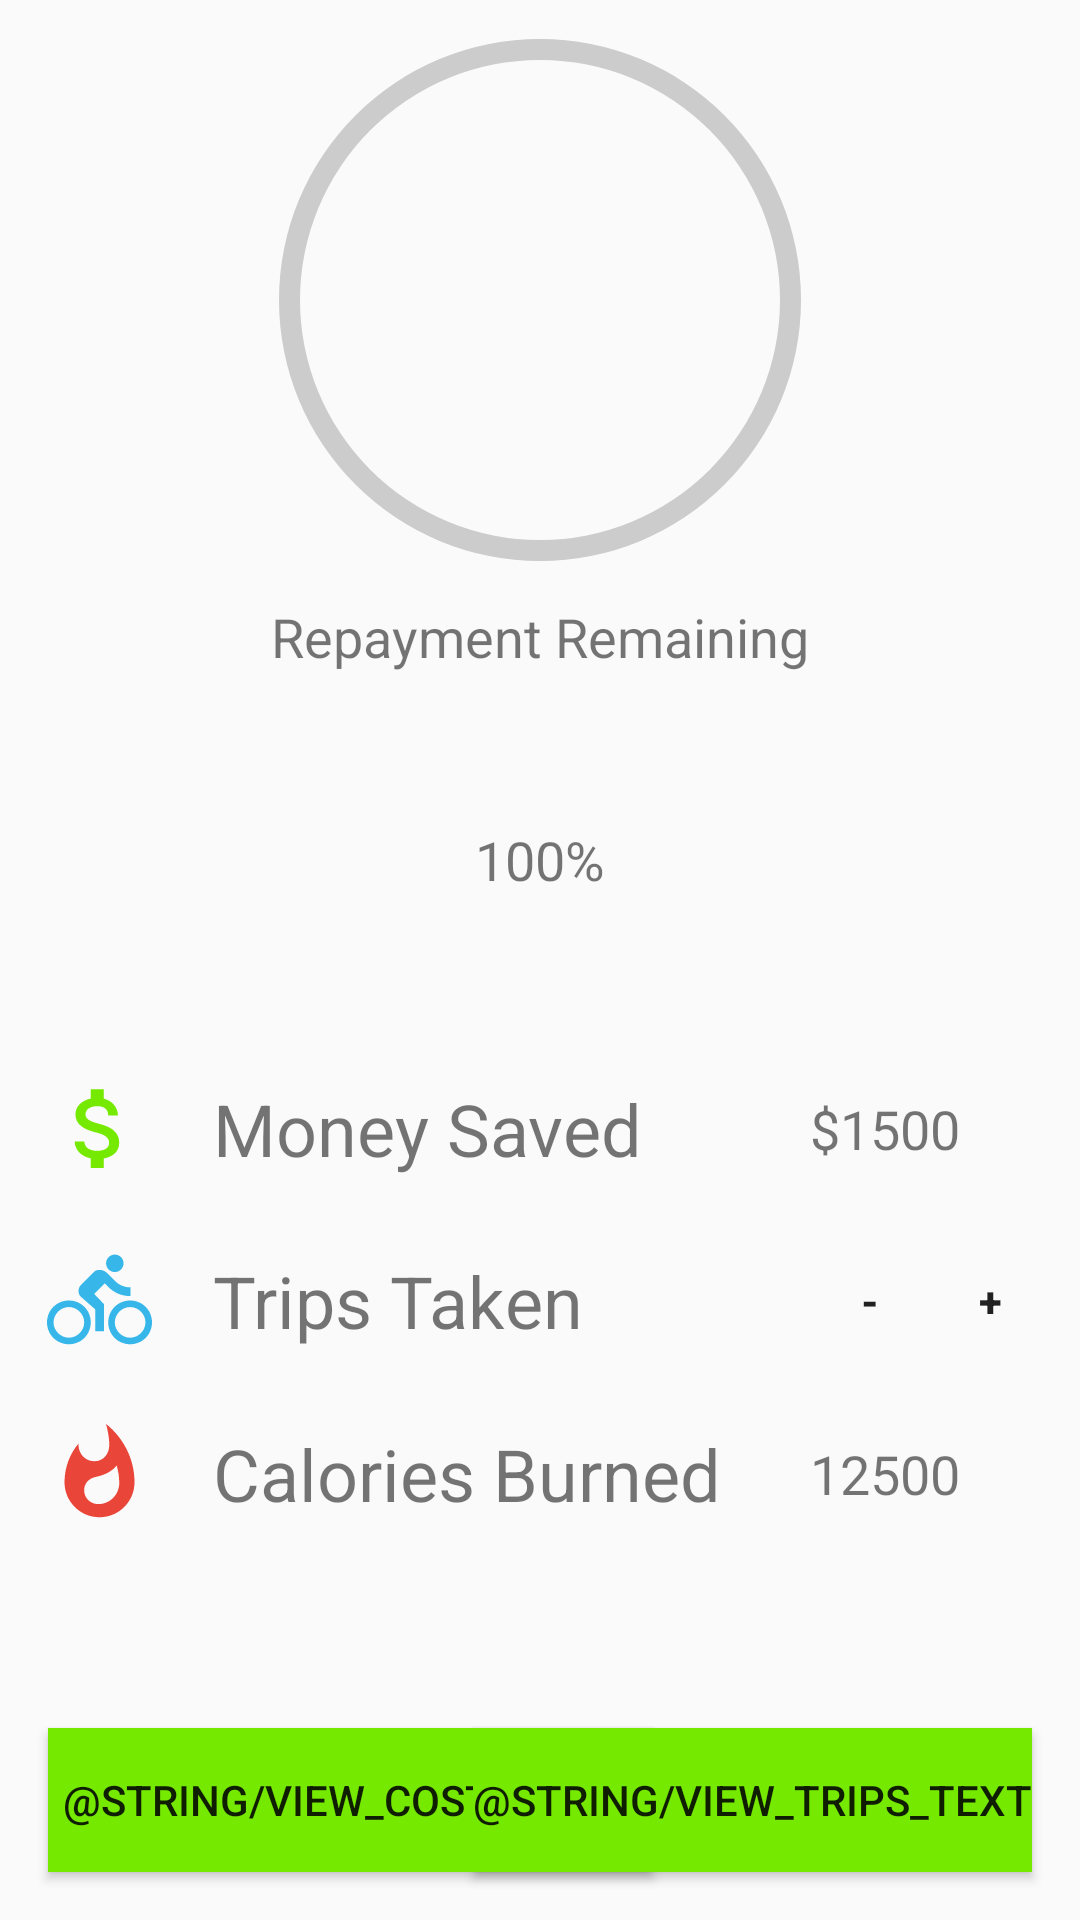

Icon bounding boxes for this 1080 × 1920 phone screenshot, format (x1, y1, x2, y2):
attach money: (74, 1089, 120, 1168)
directions bike: (47, 1254, 152, 1345)
whatshot: (64, 1424, 135, 1518)
